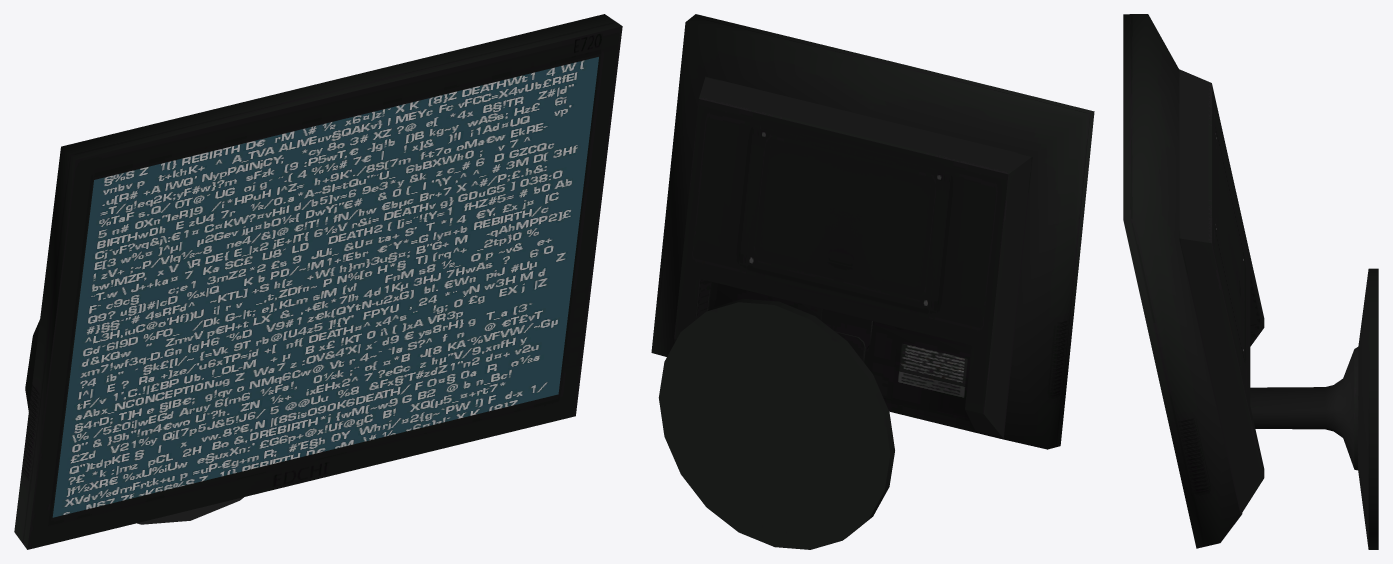
The model's file is monitor_wall_gibberish.dae.
3 views of the same model, side by side, from view 1: azimuth 30°, elevation 25°; view 2: azimuth 150°, elevation 25°; view 3: azimuth 270°, elevation 25° (orthographic). The views are drawn at different scales.
Visible parts, largest first — view 1: screen2, monitor1; view 2: monitor1; view 3: monitor1.
Part boxes in pixels (<box>): screen2: <box>52,57,598,517</box>; monitor1: <box>14,14,622,549</box>; monitor1: <box>651,14,1094,549</box>; monitor1: <box>1123,14,1378,549</box>.
Bounding box in the file's own units: 0.4495 × 0.4269 × 0.2345.
